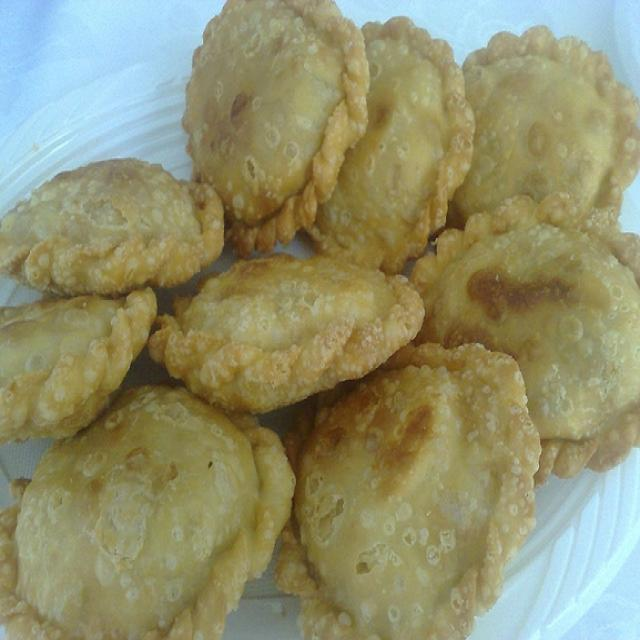炸货点心: (11, 13, 621, 624)
